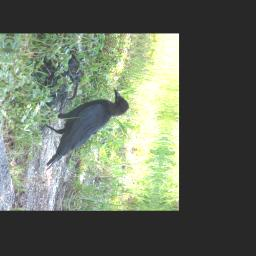Crow: (33, 83, 132, 177)
